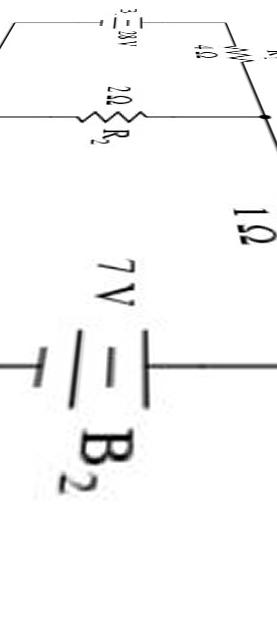Battery: (14, 308, 173, 406)
